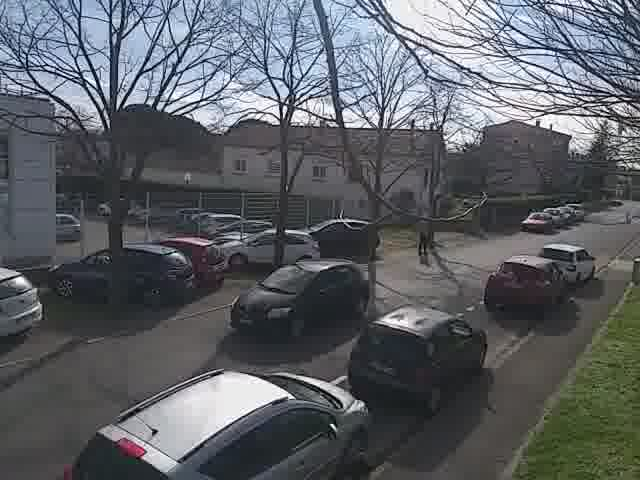persona: (413, 206, 433, 257)
